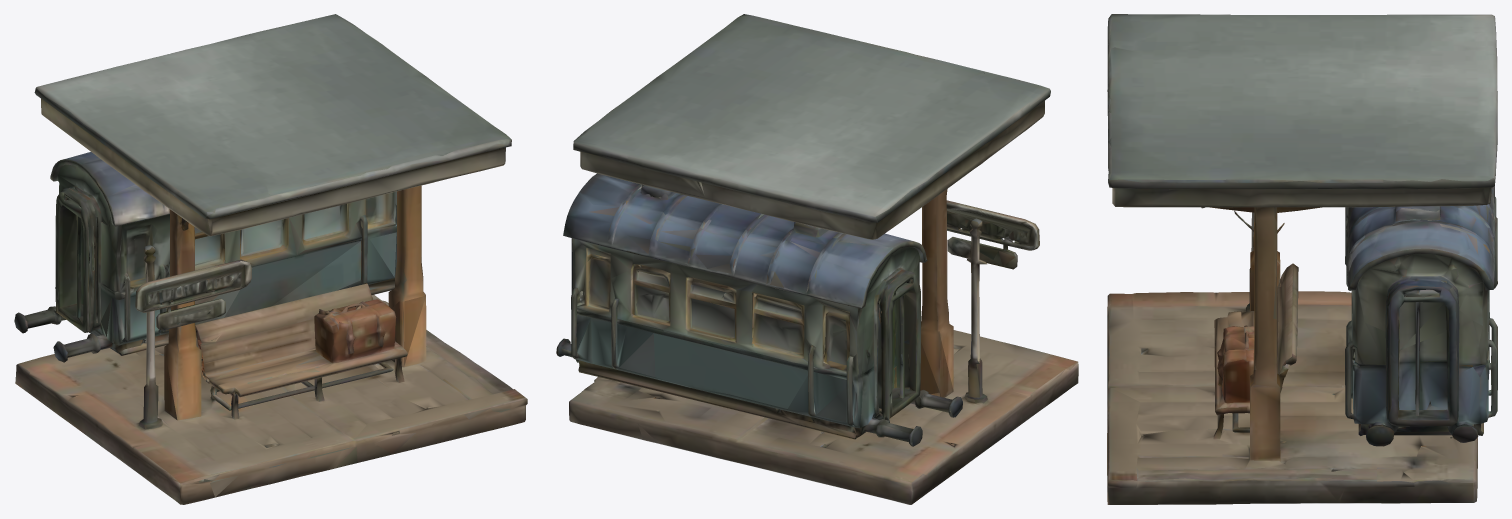
Rendered from sc-departing-platform.glb.
3 views of the same model, side by side, from view 1: azimuth 30°, elevation 25°; view 2: azimuth 150°, elevation 25°; view 3: azimuth 270°, elevation 25° (orthographic). The views are drawn at different scales.
Parts seen in each view (by area): view 1: geometry_0; view 2: geometry_0; view 3: geometry_0.
Part boxes in pixels (<box>): geometry_0: <box>14,14,527,504</box>; geometry_0: <box>556,14,1078,504</box>; geometry_0: <box>1107,14,1497,504</box>.
Bounding box in the file's own units: 1 × 0.7803 × 0.8584.
Materials: 1 (1 with a texture image).
